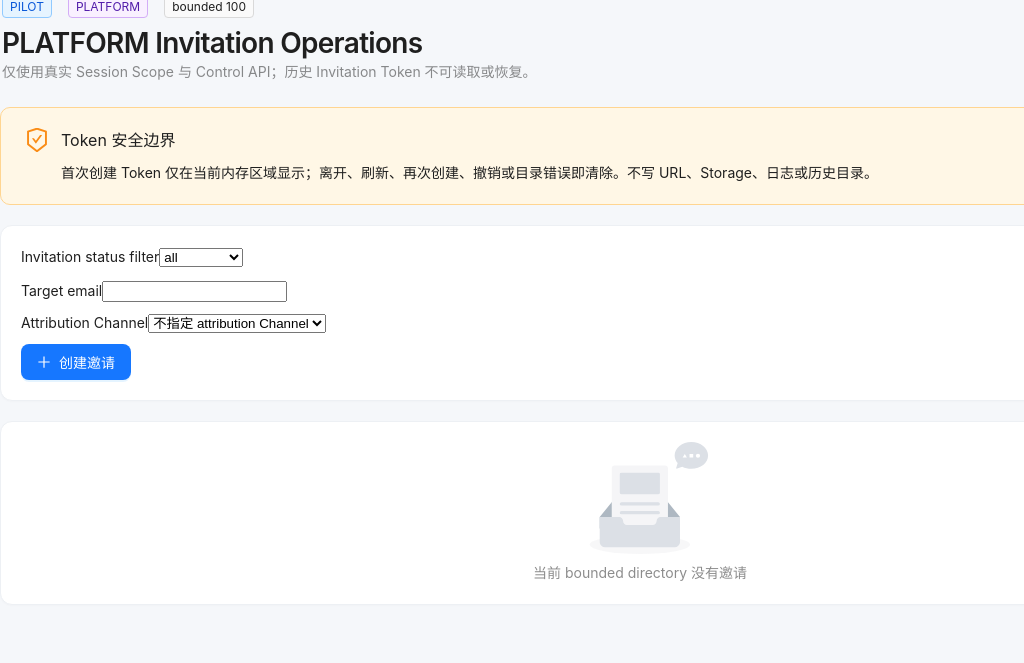
Test case: A-BIZ-06C.4 Organization Invitation Operations Pages › creates a Platform invitation with an explicit active attribution Channel and shows token once
In the field labelled "Target email": (195, 291) [102,281,287,302], type "invitee@example.com"
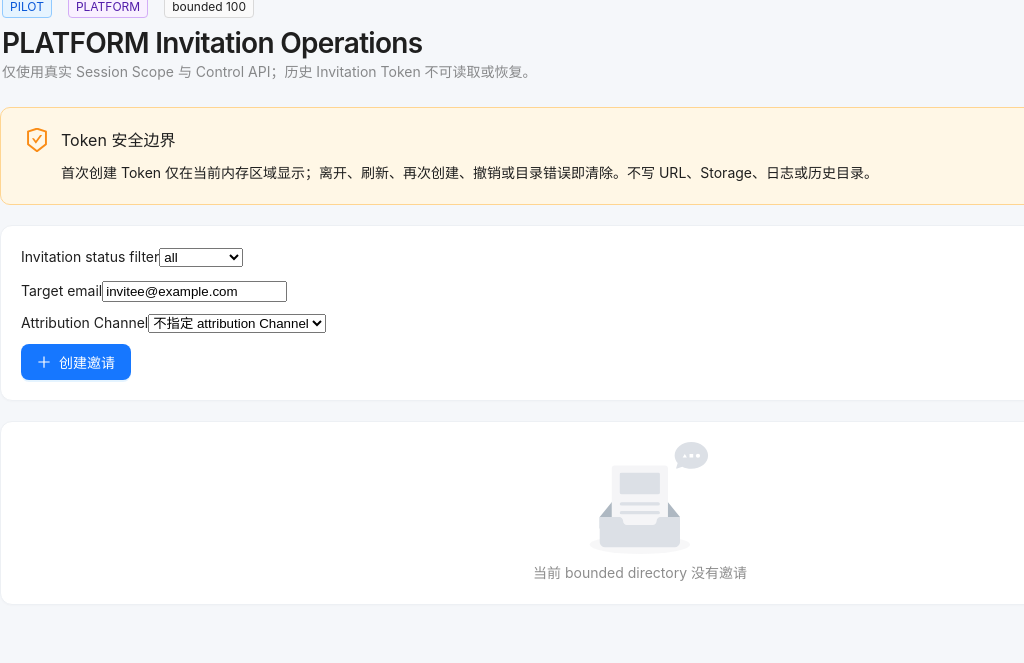
Select "真实渠道 A" in the dropdown labelled "Attribution Channel": (237, 323) [148,314,326,333]
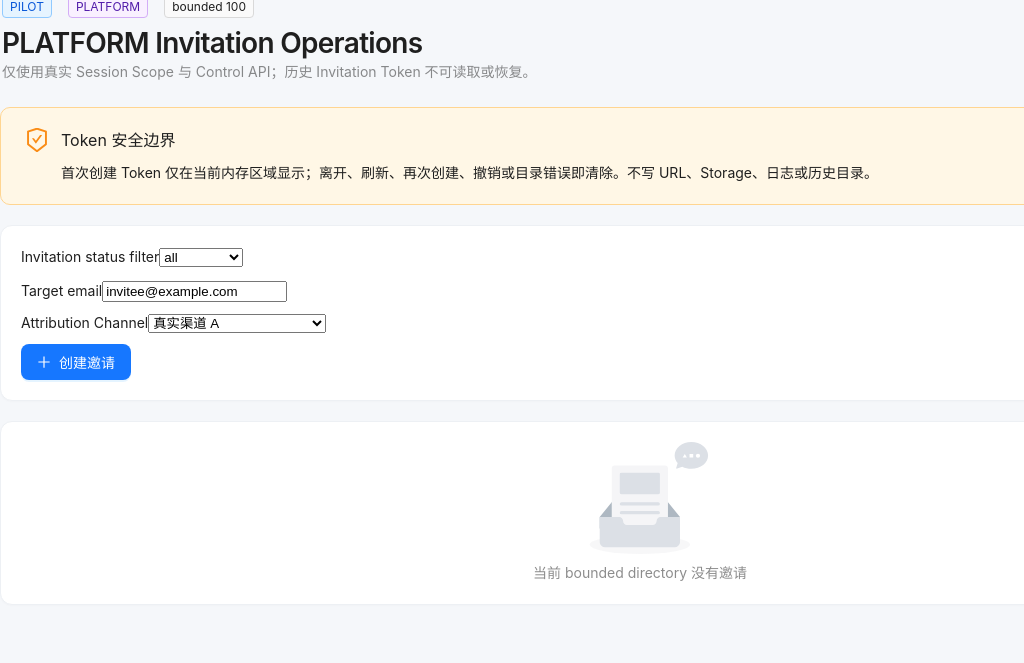
Click the button "创建邀请": (76, 362) [21,344,131,380]
(page scrolled)
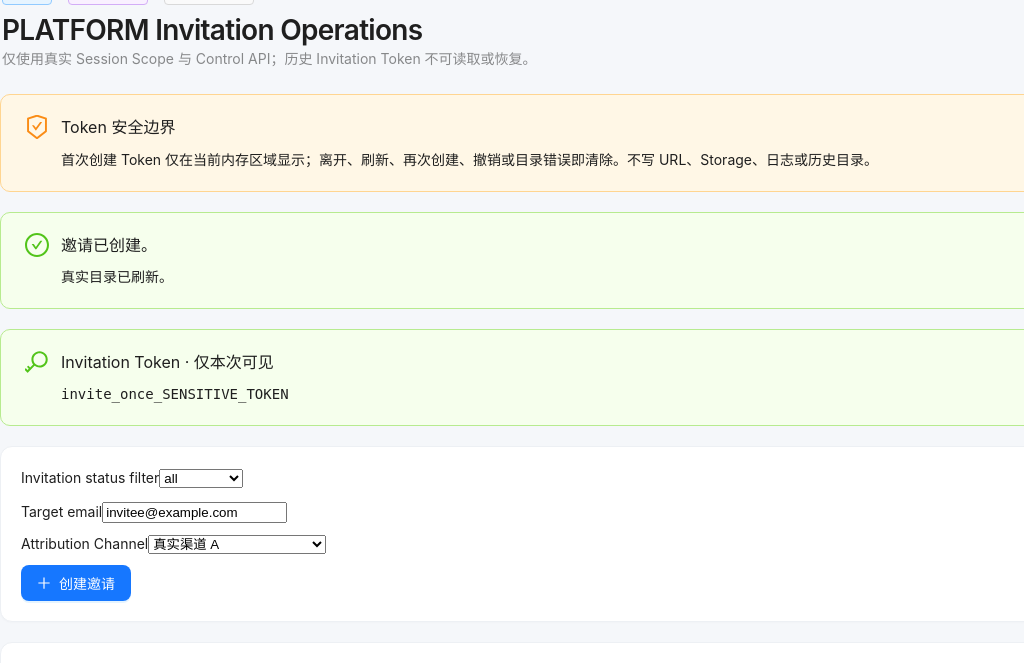
expect the message with test id "pilot-invitation-one-time-token" shows "仅本次可见": met, box [61,352,274,372]
expect the message with test id "pilot-invitation-one-time-token" shows "invite_once_SENSITIVE_TOKEN": met, box [61,386,289,402]
